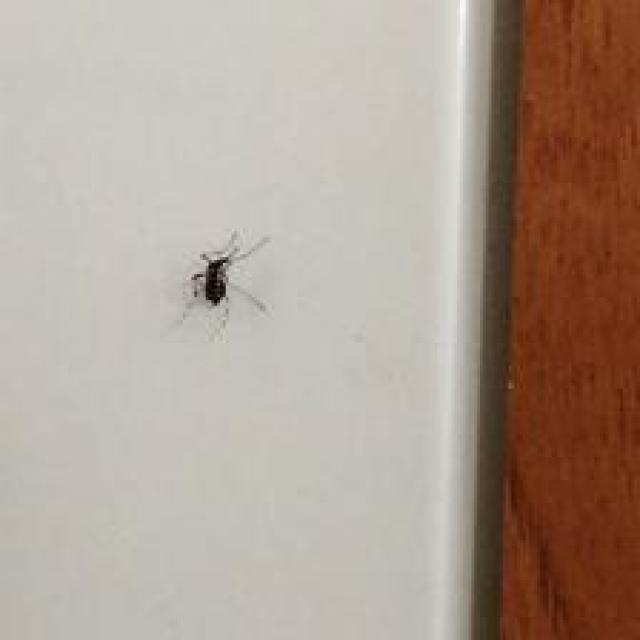Aedes albopictus: (175, 227, 272, 342)
